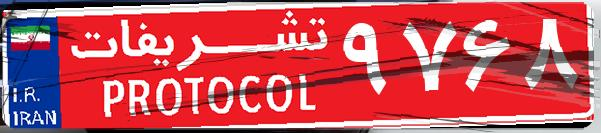6: (460, 20, 520, 115)
7: (400, 20, 460, 115)
8: (520, 20, 580, 115)
9: (340, 20, 400, 115)
تشریفات: (60, 8, 340, 125)
